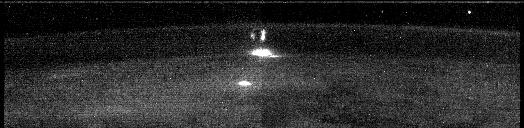positive: (247, 26, 268, 44)
